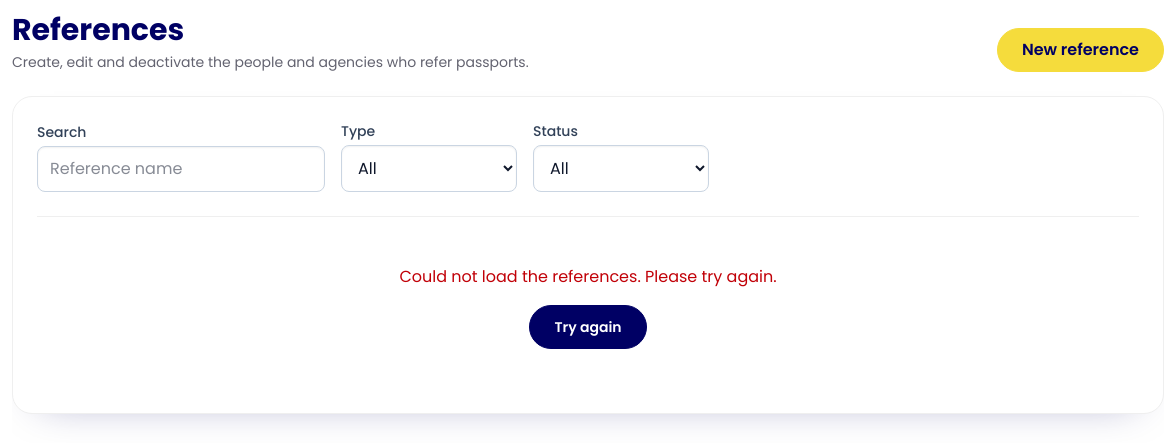
it: References (operations head) › shows an error with a retry button
Expected: the message "Could not load the references. Please try again. Try again" is shown, x1=399 y1=265 x2=776 y2=349
Click the button "Try again" at x=588, y=327, box x1=529 y1=305 x2=647 y2=349
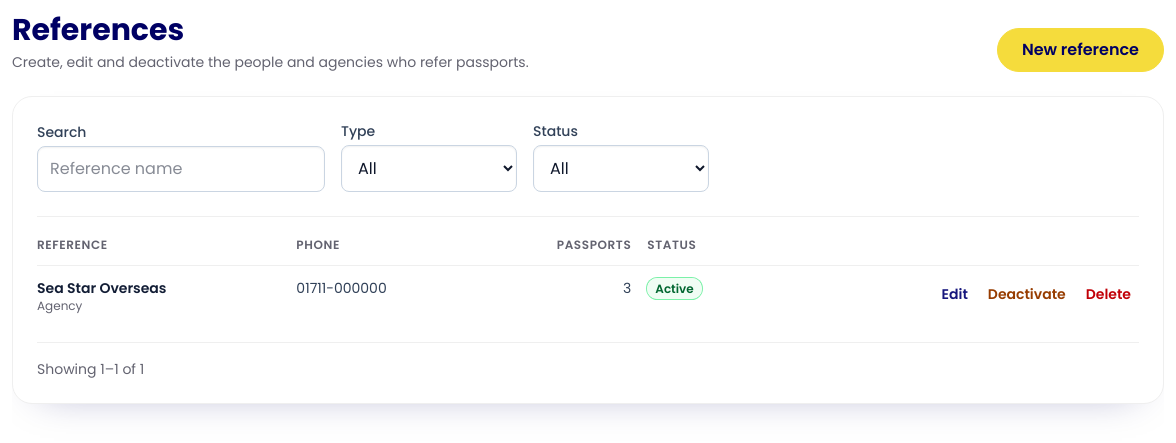
Expected: the row that starts with "Sea Star Overseas" is shown, x1=37 y1=266 x2=1139 y2=326
